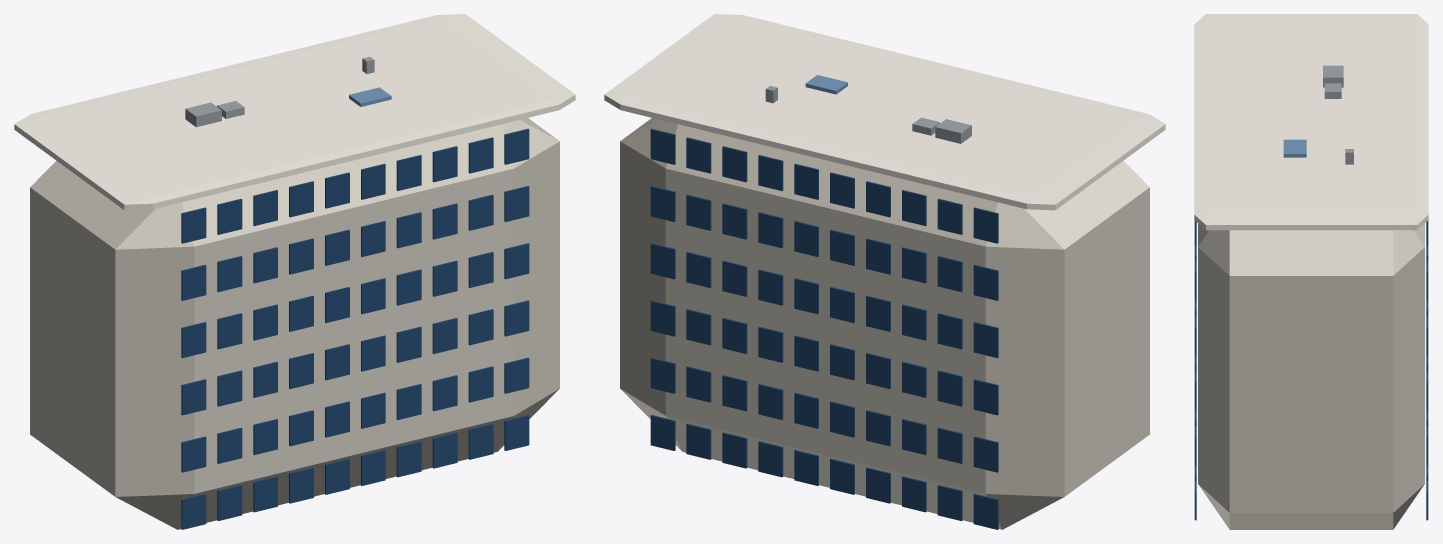
File: dorm_slab.glb
3 renders of one model, left to right at view 1: azimuth 30°, elevation 25°; view 2: azimuth 150°, elevation 25°; view 3: azimuth 270°, elevation 25°, orthographic. The views are drawn at different scales.
Parts seen in each view (by area): view 1: walls, cornice, win.019, win.059, win.021, win.028, win.029, win.039, win, win.008, win.009, win.011 (+51 smaller); view 2: walls, cornice, win.079, win.119, win.081, win.088, win.089, win.099, win.060, win.068, win.069, win.071 (+51 smaller); view 3: walls, cornice, skylt, hvac, hvac2.
Boxes of the visible parts, x1,y1,x2,y2 form: walls: [30, 118, 559, 529]; cornice: [14, 14, 575, 210]; win.019: [504, 357, 529, 393]; win.059: [504, 128, 529, 164]; win.021: [217, 370, 242, 406]; win.028: [468, 309, 493, 345]; win.029: [504, 300, 529, 336]; win.039: [504, 243, 529, 279]; win: [181, 493, 206, 529]; win.008: [468, 423, 493, 459]; win.009: [504, 415, 529, 450]; win.011: [217, 428, 242, 463]; walls: [620, 118, 1149, 529]; cornice: [604, 14, 1165, 210]; win.079: [650, 357, 675, 393]; win.119: [650, 128, 675, 164]; win.081: [937, 370, 962, 406]; win.088: [686, 309, 711, 345]; win.089: [650, 300, 675, 336]; win.099: [650, 243, 675, 279]; win.060: [973, 493, 998, 529]; win.068: [686, 423, 711, 459]; win.069: [650, 415, 675, 450]; win.071: [937, 428, 962, 463]; walls: [1198, 223, 1424, 529]; cornice: [1194, 14, 1428, 230]; skylt: [1283, 139, 1306, 157]; hvac: [1323, 65, 1343, 87]; hvac2: [1324, 83, 1341, 98].
Size of the model in its own units: 26.4 by 20.3 by 12.4.
